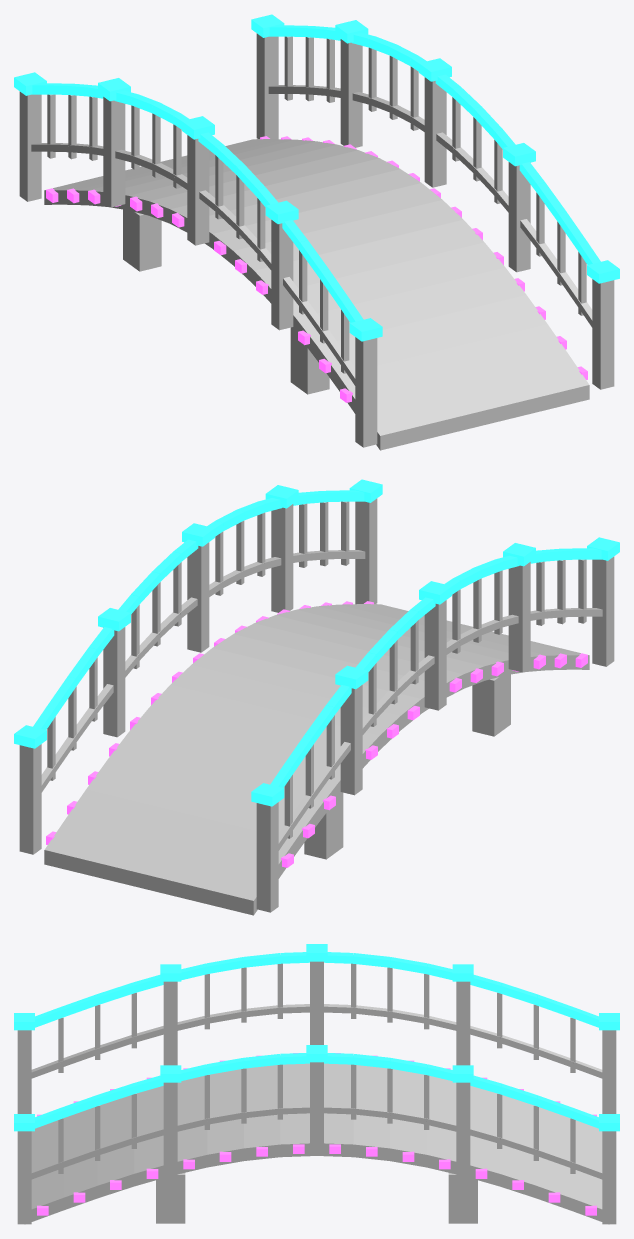
The picture shows the model from 3 angles, top to bottom: view 1: azimuth 30°, elevation 25°; view 2: azimuth 150°, elevation 25°; view 3: azimuth 270°, elevation 25°; orthographic projection. The views are drawn at different scales.
Parts seen in each view (by area): view 1: Neon_ArchedBridge_Showcase; view 2: Neon_ArchedBridge_Showcase; view 3: Neon_ArchedBridge_Showcase.
Boxes of the visible parts, bbox=[...] form: Neon_ArchedBridge_Showcase: bbox=[14, 14, 619, 450]; Neon_ArchedBridge_Showcase: bbox=[14, 479, 619, 915]; Neon_ArchedBridge_Showcase: bbox=[14, 944, 619, 1224].
Size of the model in its own units: 2.22 by 1.71 by 5.18.
